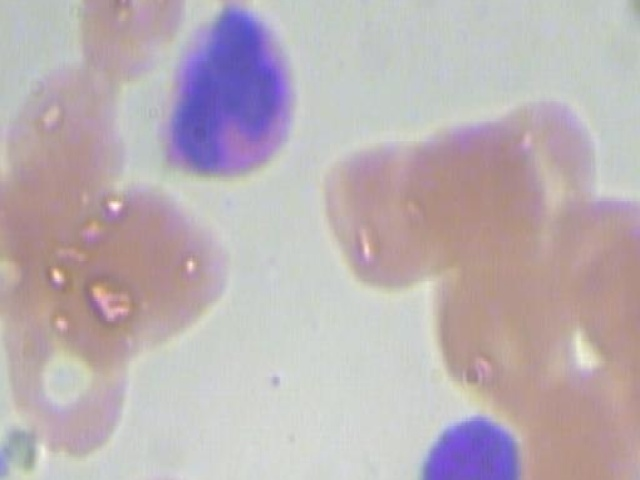RBC: (0, 275, 134, 467), (312, 140, 459, 305), (0, 54, 140, 219), (475, 86, 610, 234), (566, 225, 640, 374), (57, 0, 204, 68), (607, 325, 640, 473), (590, 462, 640, 480), (172, 0, 317, 4), (86, 477, 231, 480)
WBC: (147, 0, 310, 190), (408, 406, 530, 480)
